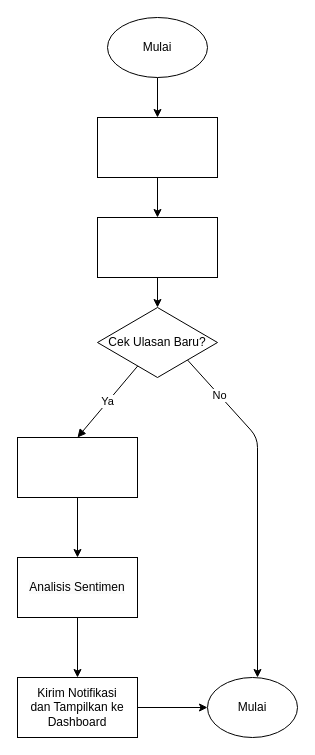
This 315x755 diagram has some shape labels left out. The shapes that lost their labels are listed below. From the top down, each one's box as (x1, y1, x2, y2) in pixels, then its label:
(96, 116, 218, 178): Scheduler / Trigger Manual
(96, 216, 218, 278): Ambil Ulasan Terbaru melalui SerpAPI
(16, 436, 138, 498): Simpan ke Basis Data
